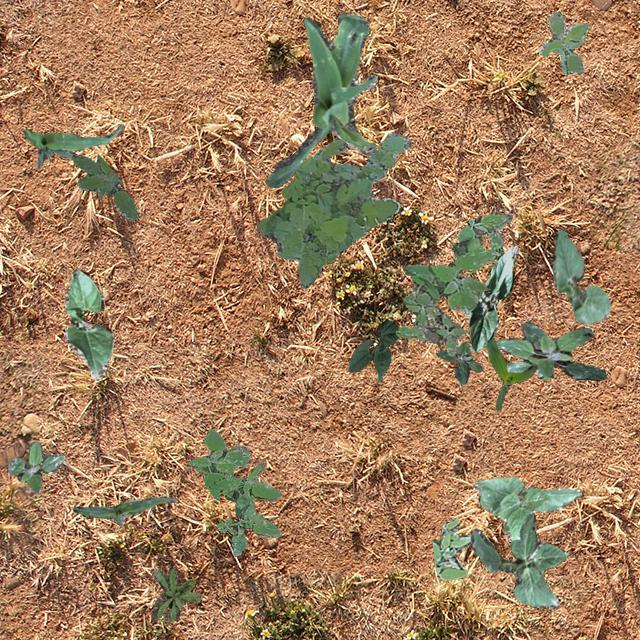crop: (264, 12, 376, 186), (469, 512, 566, 608), (472, 476, 580, 540), (460, 245, 518, 352), (62, 268, 112, 380), (552, 228, 610, 324), (22, 122, 122, 168), (484, 336, 534, 410), (347, 318, 398, 382), (72, 496, 176, 524)
weed: (256, 132, 411, 288), (394, 210, 512, 354), (187, 428, 280, 556), (496, 320, 606, 380), (70, 153, 136, 220), (538, 11, 588, 74), (8, 440, 64, 492), (150, 568, 202, 620), (430, 516, 470, 580), (434, 341, 482, 384)
